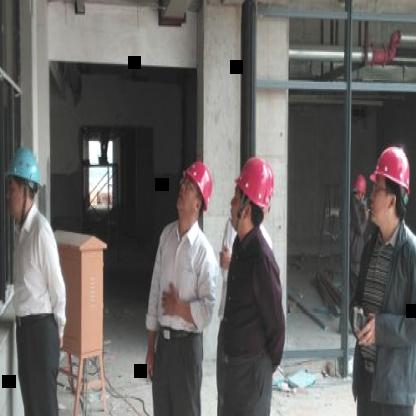helmet: (229, 154, 279, 240), (370, 142, 414, 236), (1, 138, 45, 224), (176, 156, 218, 229), (352, 171, 368, 205)
